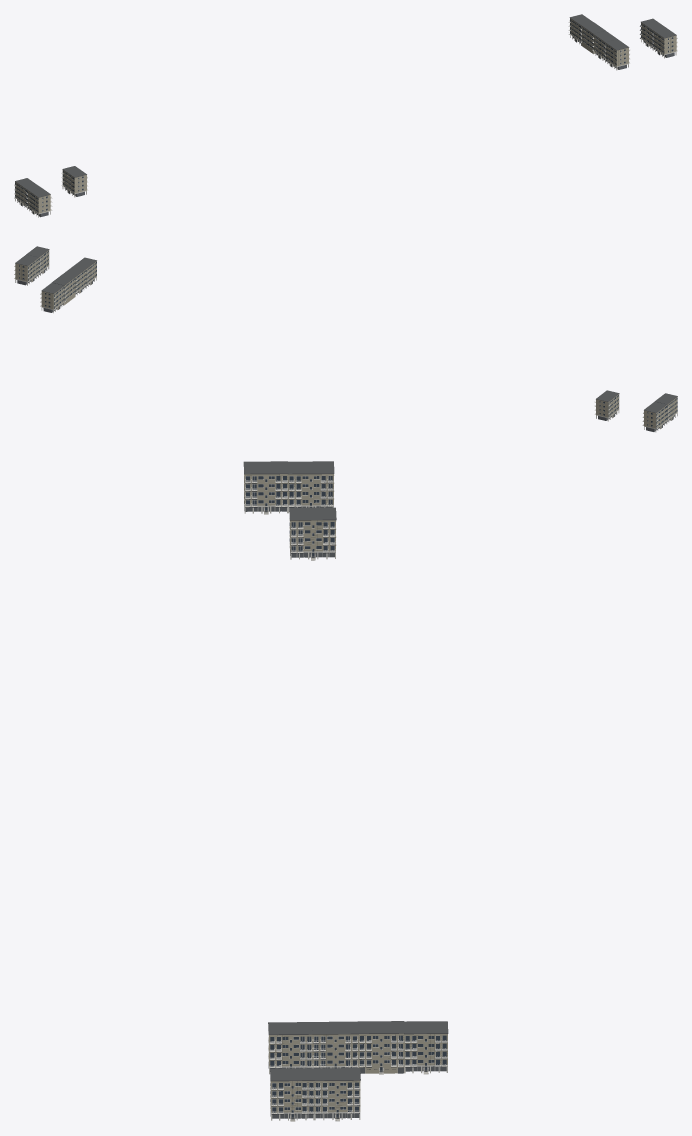
Rendered from comenius-baked-2.glb.
3 renders of one model, top to bottom at view 1: azimuth 30°, elevation 25°; view 2: azimuth 150°, elevation 25°; view 3: azimuth 270°, elevation 25°, orthographic. The views are drawn at different scales.
Parts seen in each view (by area): view 1: nw-pilotis-panel-flat-0363100012077622, nw-pilotis-panel-flat-0363100012103878, nw-pilotis-panel-flat-0363100012134825, nw-pilotis-panel-flat-0363100012080995, nw-pilotis-panel-flat-0363100012061545, nw-pilotis-panel-flat-0363100012099425, nw-pilotis-panel-flat-0363100012124255, nw-pilotis-panel-flat-0363100012136034, nw-pilotis-panel-flat-0363100012078925; view 2: nw-pilotis-panel-flat-0363100012077622, nw-pilotis-panel-flat-0363100012078925, nw-pilotis-panel-flat-0363100012136034, nw-pilotis-panel-flat-0363100012124255, nw-pilotis-panel-flat-0363100012061545, nw-pilotis-panel-flat-0363100012099425, nw-pilotis-panel-flat-0363100012134825, nw-pilotis-panel-flat-0363100012080995, nw-pilotis-panel-flat-0363100012103878; view 3: nw-pilotis-panel-flat-0363100012061545, nw-pilotis-panel-flat-0363100012077622, nw-pilotis-panel-flat-0363100012136034, nw-pilotis-panel-flat-0363100012080995, nw-pilotis-panel-flat-0363100012134825, nw-pilotis-panel-flat-0363100012078925, nw-pilotis-panel-flat-0363100012099425, nw-pilotis-panel-flat-0363100012124255, nw-pilotis-panel-flat-0363100012103878.
Part boxes in pixels (x1,y1,x2,y2): nw-pilotis-panel-flat-0363100012077622: [61, 166, 87, 197]; nw-pilotis-panel-flat-0363100012103878: [604, 39, 629, 70]; nw-pilotis-panel-flat-0363100012134825: [652, 27, 677, 58]; nw-pilotis-panel-flat-0363100012080995: [26, 186, 51, 217]; nw-pilotis-panel-flat-0363100012061545: [580, 22, 605, 53]; nw-pilotis-panel-flat-0363100012099425: [592, 30, 617, 61]; nw-pilotis-panel-flat-0363100012124255: [14, 178, 38, 209]; nw-pilotis-panel-flat-0363100012136034: [640, 18, 664, 49]; nw-pilotis-panel-flat-0363100012078925: [569, 14, 592, 45]; nw-pilotis-panel-flat-0363100012077622: [595, 390, 619, 421]; nw-pilotis-panel-flat-0363100012078925: [40, 283, 64, 313]; nw-pilotis-panel-flat-0363100012136034: [14, 254, 38, 285]; nw-pilotis-panel-flat-0363100012124255: [642, 401, 666, 432]; nw-pilotis-panel-flat-0363100012061545: [52, 274, 75, 304]; nw-pilotis-panel-flat-0363100012099425: [63, 265, 86, 296]; nw-pilotis-panel-flat-0363100012134825: [26, 246, 49, 276]; nw-pilotis-panel-flat-0363100012080995: [655, 393, 677, 423]; nw-pilotis-panel-flat-0363100012103878: [74, 257, 96, 288]; nw-pilotis-panel-flat-0363100012061545: [357, 1021, 404, 1074]; nw-pilotis-panel-flat-0363100012077622: [289, 507, 336, 560]; nw-pilotis-panel-flat-0363100012136034: [314, 1068, 360, 1121]; nw-pilotis-panel-flat-0363100012080995: [243, 461, 288, 514]; nw-pilotis-panel-flat-0363100012134825: [270, 1068, 314, 1121]; nw-pilotis-panel-flat-0363100012078925: [404, 1021, 448, 1074]; nw-pilotis-panel-flat-0363100012099425: [311, 1021, 358, 1068]; nw-pilotis-panel-flat-0363100012124255: [288, 461, 334, 513]; nw-pilotis-panel-flat-0363100012103878: [268, 1022, 312, 1074].
Bounding box in the file's own units: 517 × 15.66 × 71.93.
